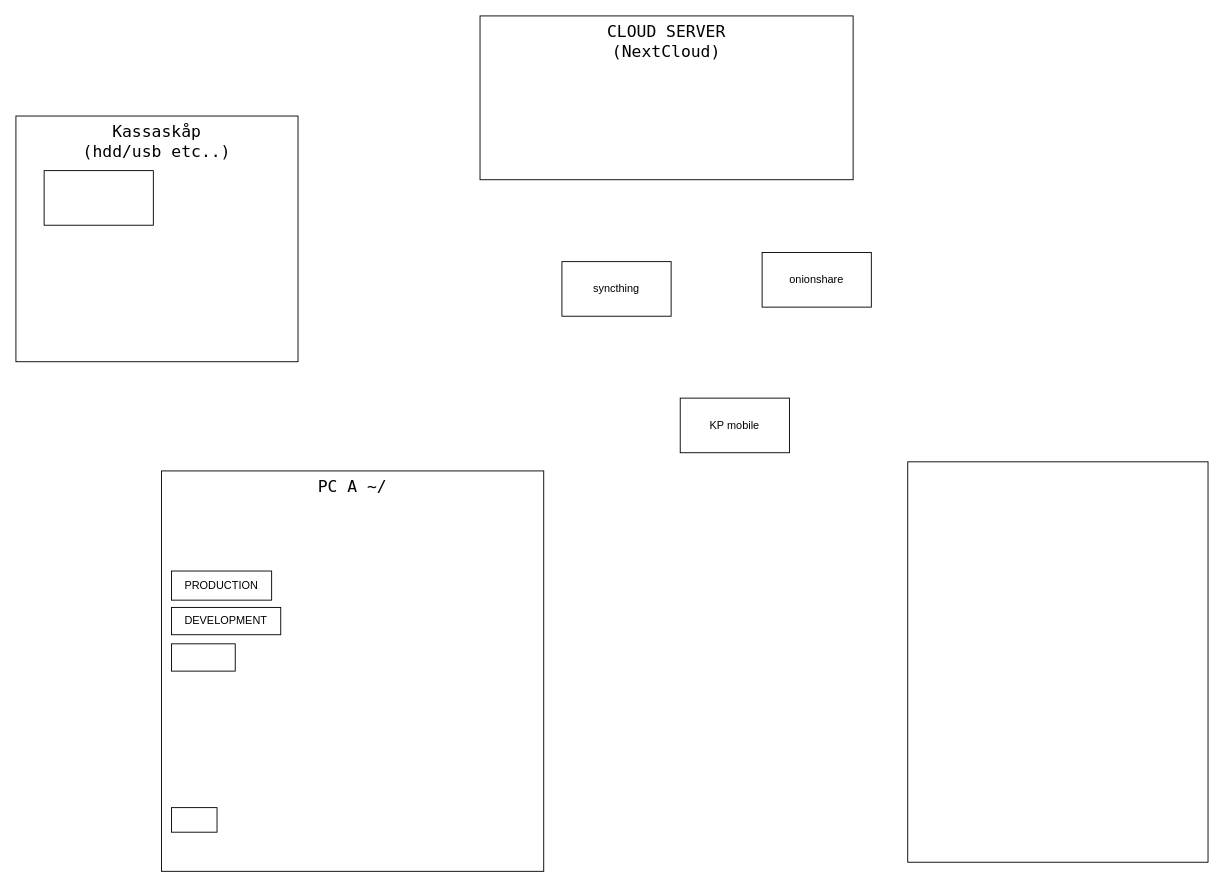
Some shapes in this 1224 by 887 pixel diagram are drawn without their labels. The shapes that lost their labels are listed below. From the top down, each one's box as (x1, y1, x2, y2) in pixels, then its label:
(43, 170, 153, 225): KP master
(171, 643, 235, 671): FILES
(907, 461, 1208, 862): MOBILE
(171, 807, 217, 832): TMP
